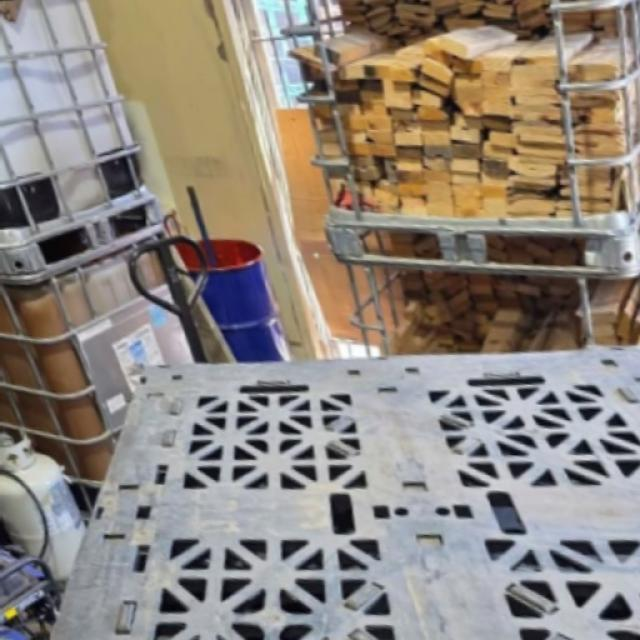igps: (41, 338, 639, 638)
